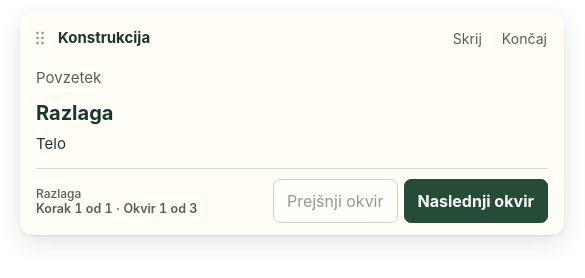
it: Back from an observation overlay returns to the previous frame
The width and height of the screenshot is (585, 278).
Click the button "Naslednji okvir": (476, 200) [404,178,548,222]
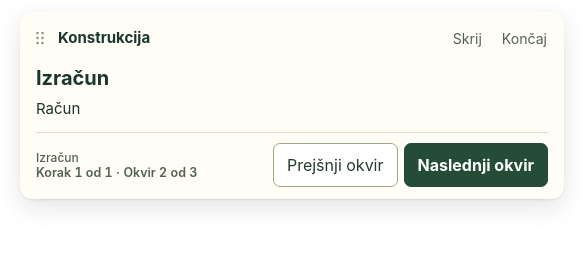
Click the button "Naslednji okvir": (476, 165) [404,143,548,187]
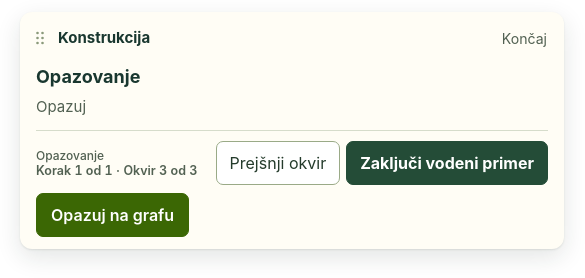
Expected: the button "Opazuj na grafu" is shown, [36,193,189,237]
Click the button "Prejšnji okvir": (278, 163) [216,141,340,185]
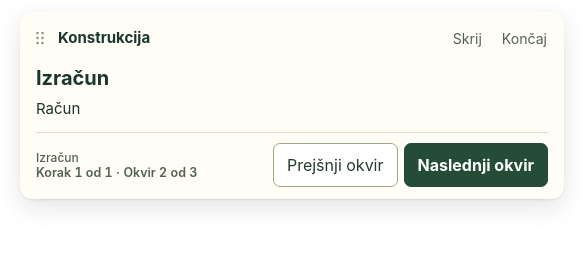
Expected: the heading "Izračun" is shown, [36,66,109,90]
Expected: the button "Opazuj na grafu" is gone
